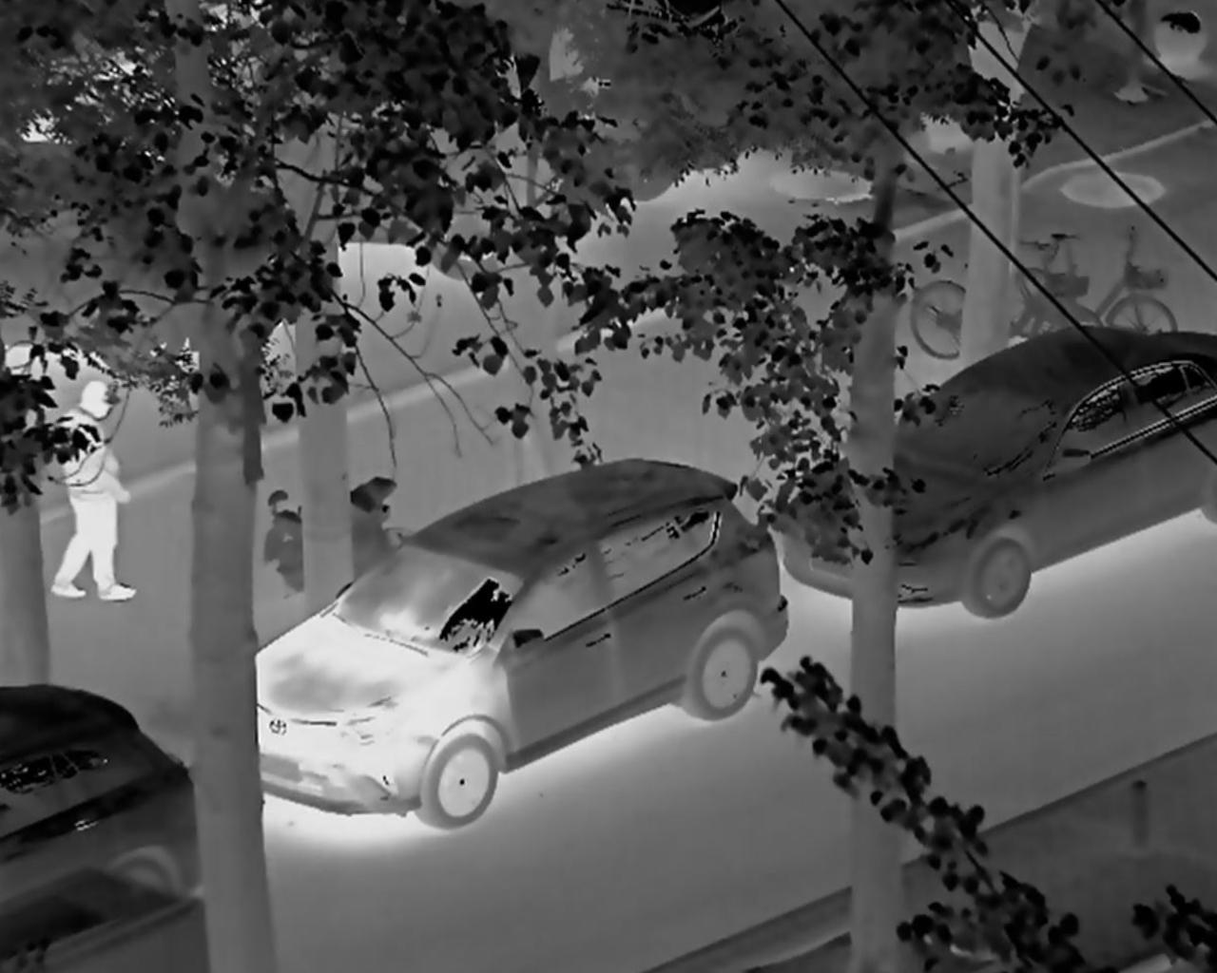person: (48, 372, 147, 608)
